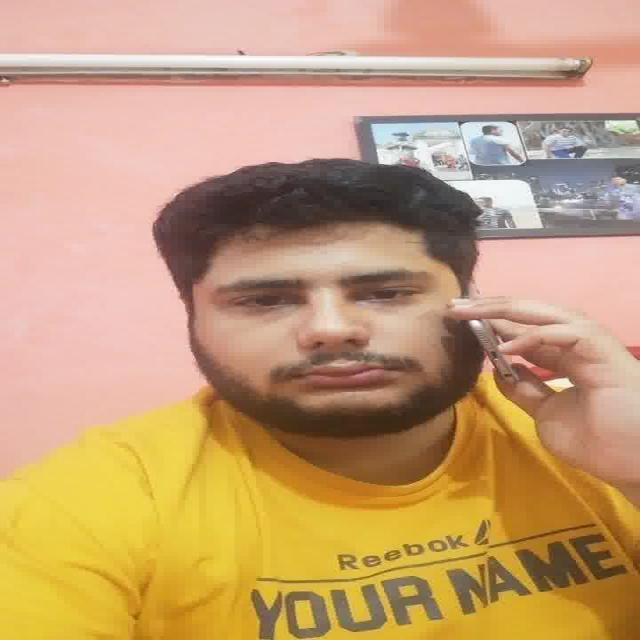Phone: (466, 272, 524, 394)
